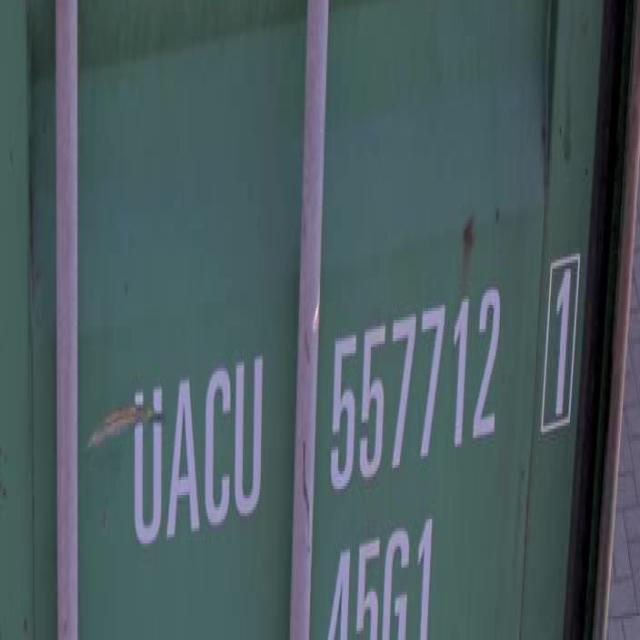dv: (535, 224, 581, 466)
owner: (115, 304, 273, 564)
serial: (322, 225, 502, 495)
size: (322, 516, 448, 640)
